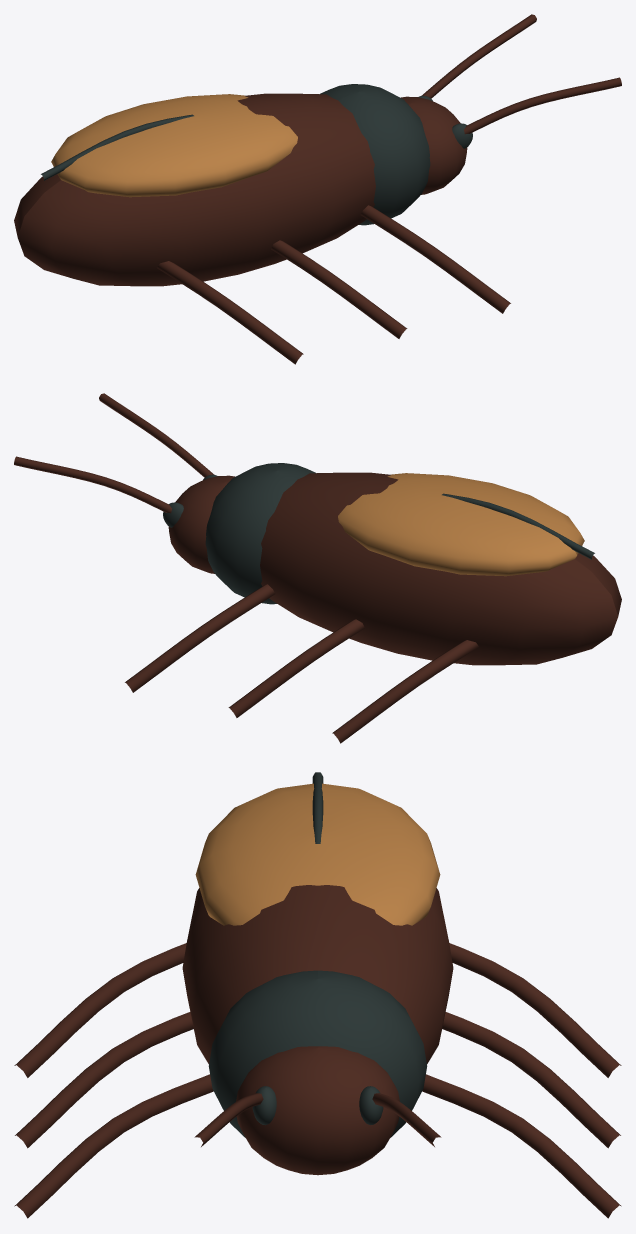
The model's file is roach-light.glb.
3 views of the same model, one above another, from view 1: azimuth 30°, elevation 25°; view 2: azimuth 150°, elevation 25°; view 3: azimuth 270°, elevation 25° (orthographic). The views are drawn at different scales.
Visible parts, largest first — view 1: coffee (×4), wood, dark; view 2: coffee (×4), wood, dark; view 3: coffee (×7), wood, dark.
Part boxes in pixels (x1,y1,x2,y2): coffee (×4): [14, 14, 621, 364]; wood: [51, 94, 297, 197]; dark: [41, 84, 472, 225]; coffee (×4): [14, 393, 621, 743]; wood: [338, 473, 584, 576]; dark: [163, 463, 594, 604]; coffee (×7): [14, 885, 621, 1218]; wood: [195, 783, 440, 925]; dark: [208, 772, 427, 1137].
Bounding box in the file's own units: 2.05 × 0.6068 × 1.39.
